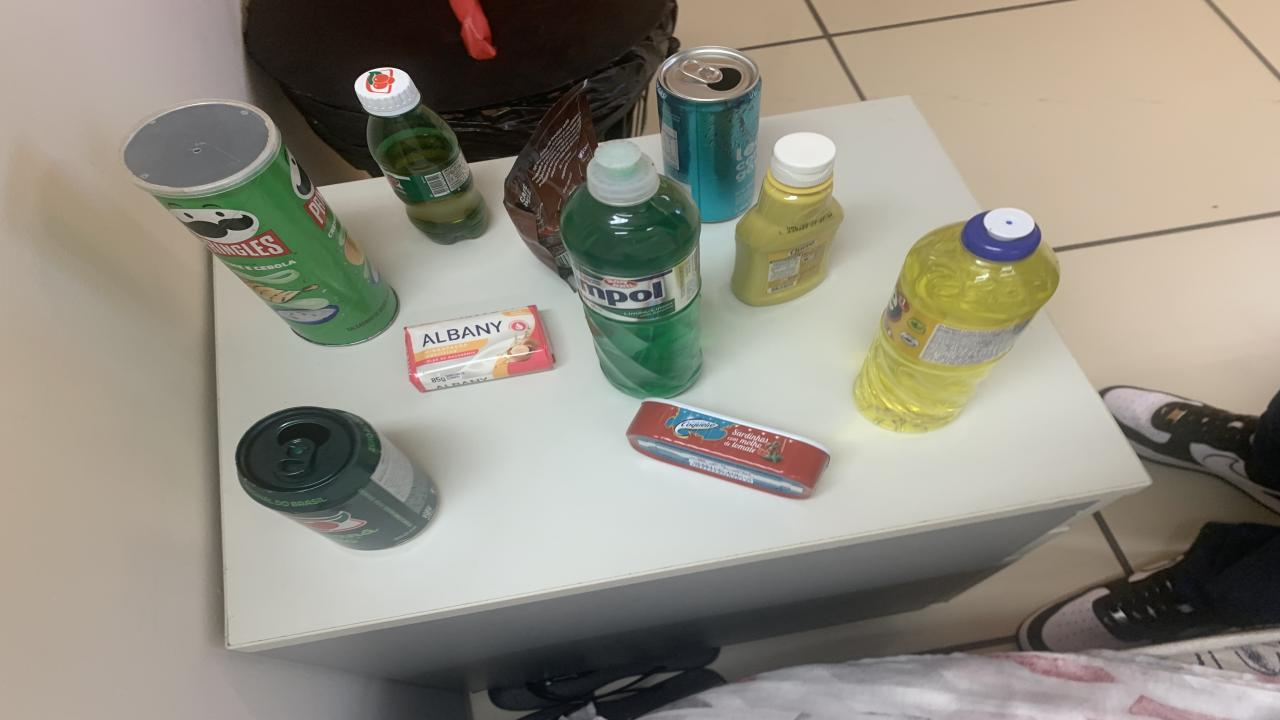Coffee-Pantry_Items: (502, 82, 598, 289)
Detergent-Cleanup_Items: (855, 208, 1060, 431), (560, 141, 702, 398)
Guarana-Drinks: (355, 68, 488, 244)
Guarana_Can-Drinks: (235, 407, 438, 549)
Mustard-Pantry_Items: (732, 131, 842, 306)
Pringles-Snacks: (120, 99, 398, 345)
Soap-Cleanup_Items: (405, 306, 555, 392)
Tea-Drinks: (655, 47, 760, 223)
Tuna_Can-Pantry_Items: (628, 398, 830, 499)
